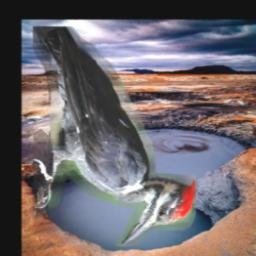Woodpecker: (33, 27, 196, 247)
